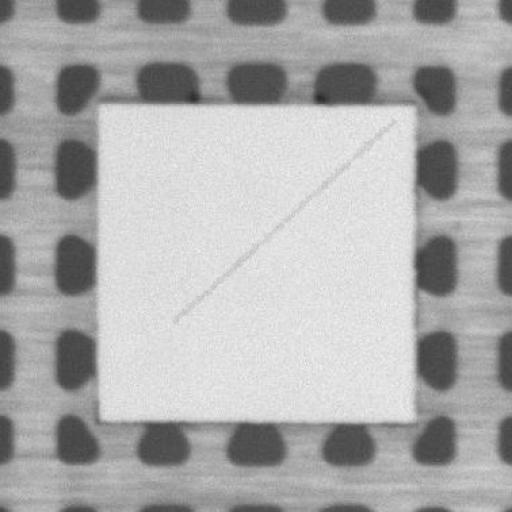DIE_CRACK: (173, 121, 392, 321)
